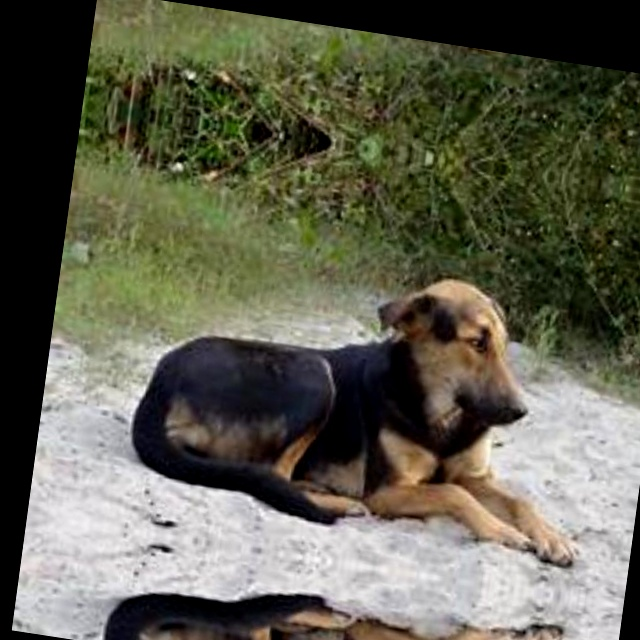dog: (109, 239, 625, 600), (94, 527, 586, 640)
